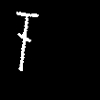double_crochet: (17, 12, 38, 70)
